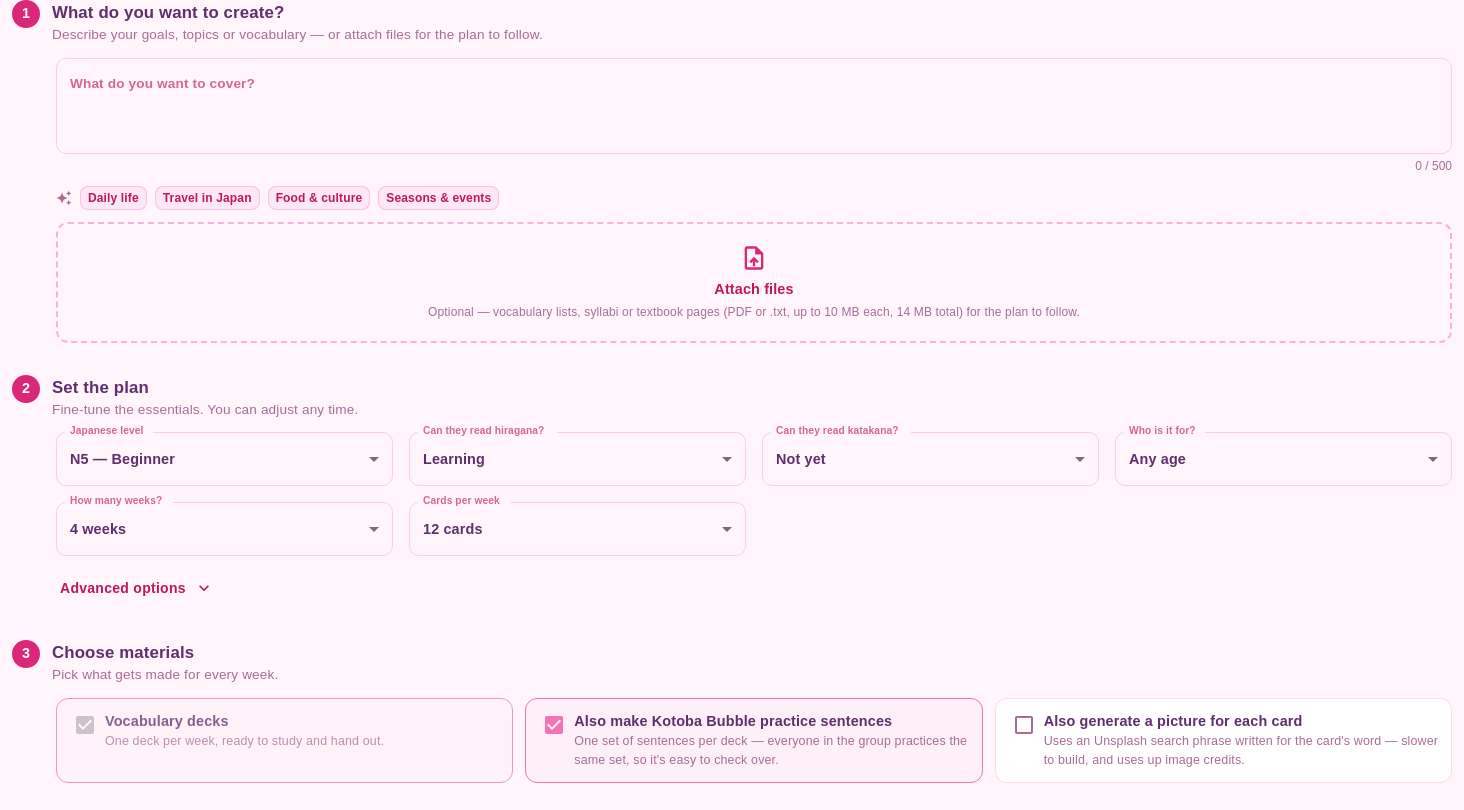
Test case: LessonSetBuilder › enables the build button once a goal is typed — no learner to pick
This screenshot has width=1464, height=810.
Replace the text in the text box labelled "What do you want to cover?" with "Food words": [754, 106] box [70,74,1438,137]
(page scrolled)
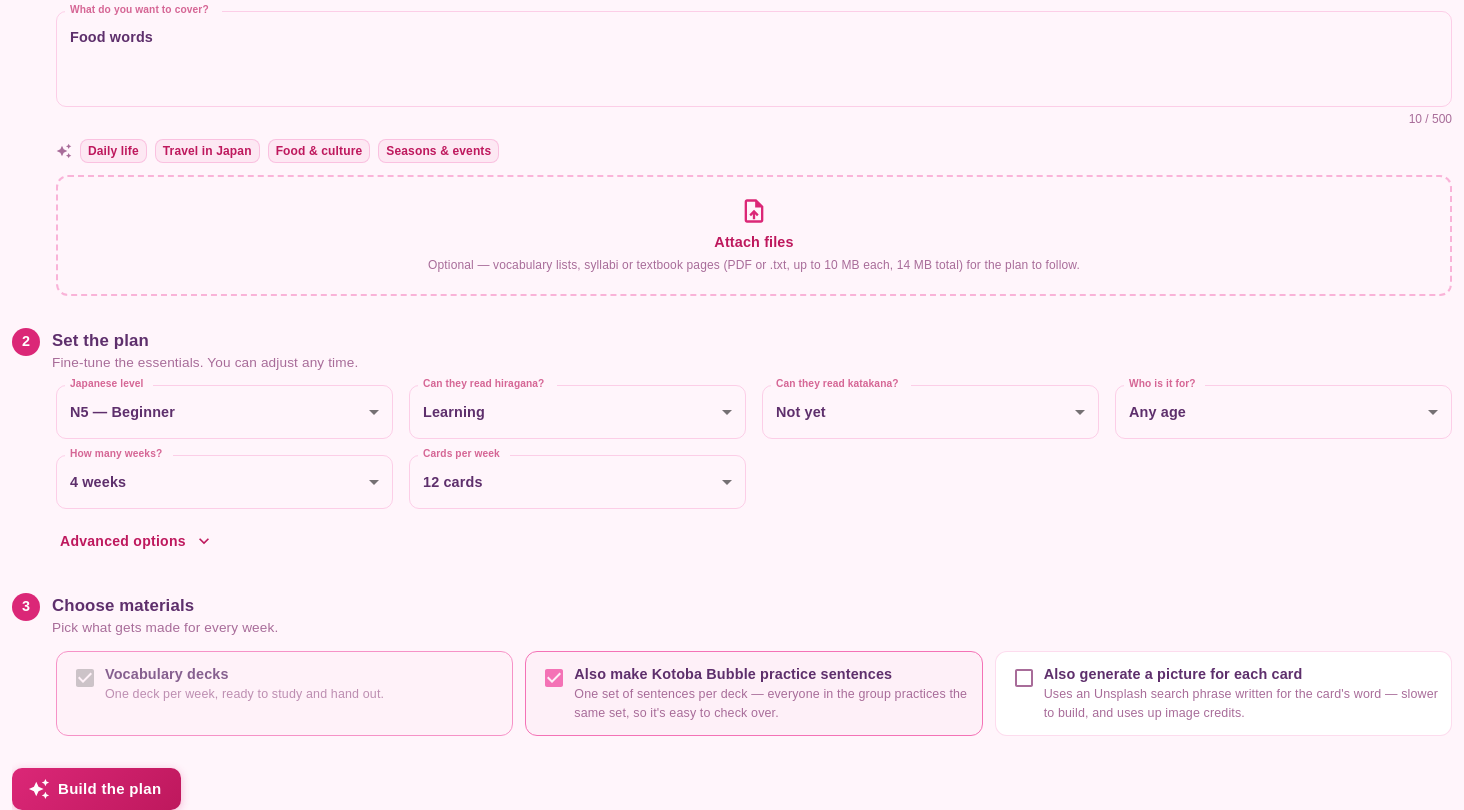
Check: the button "Build the plan" is enabled, box [12,768,181,809]
